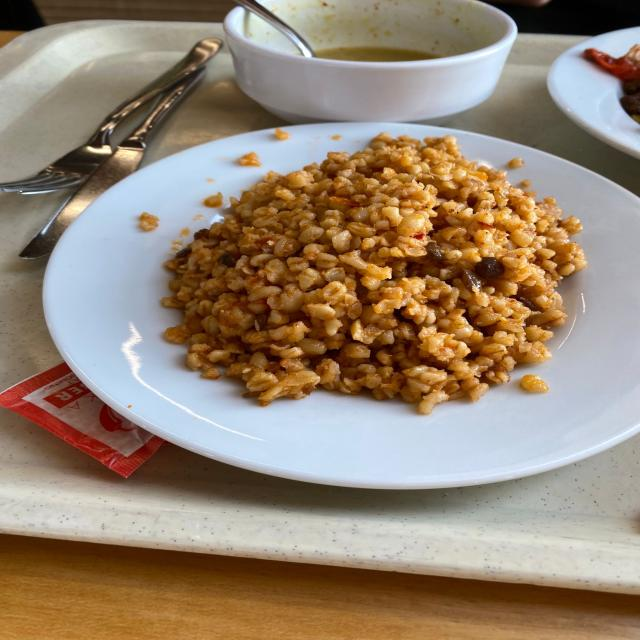ana_yemek: (156, 132, 586, 418)
